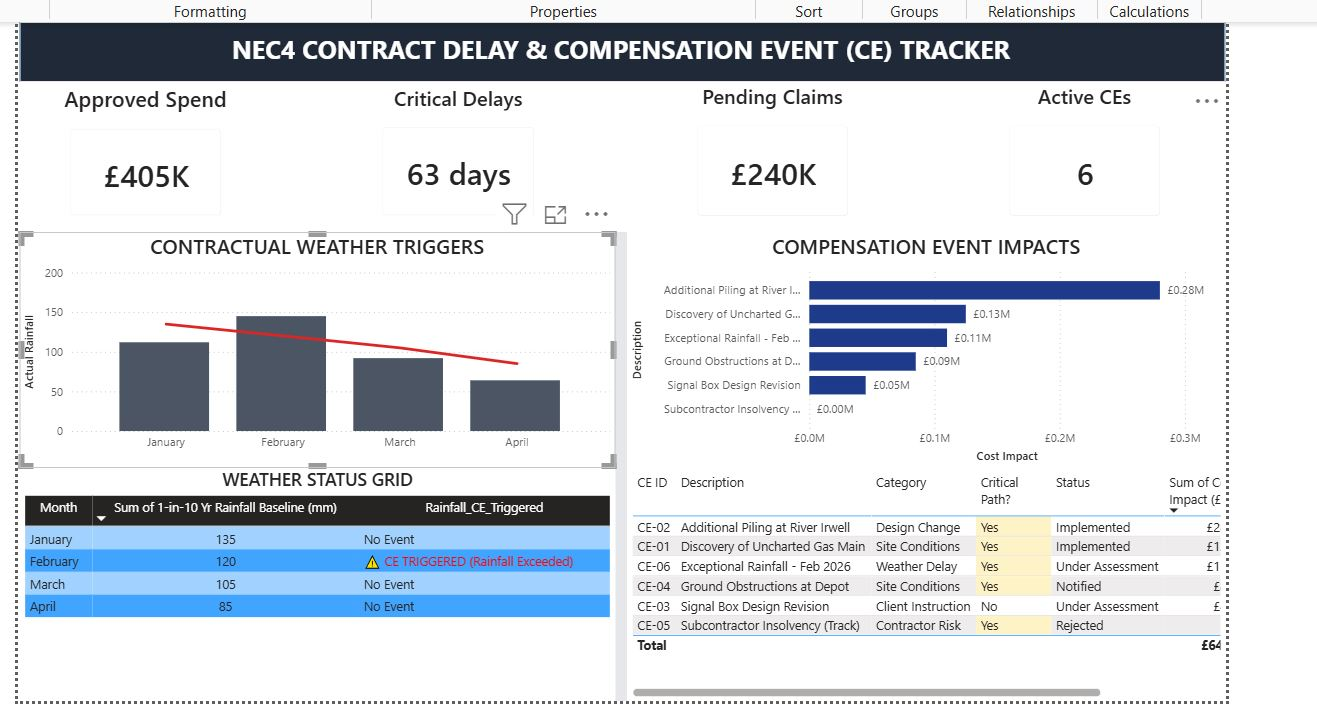

The page's visual inventory and layout, read from the dashboard file:
{"tool":"powerbi","page":{"name":"Page 1","canvas":[1280,720],"ordinal":0},"visuals":[{"type":"shape","box":[1.6,0,1278.9,63.6],"z":0},{"type":"shape","box":[633.1,222.7,12.7,497.9],"z":1000},{"type":"textbox","box":[81.7,4.8,1116.6,46.1],"z":2000},{"type":"cardVisual","title":"Approved Spend","fields":{"Data":["Compensation_Events.Approved_CE_Spend"]},"box":[38.2,64.8,194.1,157.5],"z":3000},{"type":"cardVisual","title":"Critical Delays","fields":{"Data":["Compensation_Events.Critical_Path_Delay"]},"box":[369.6,64.8,195.6,157.5],"z":4000},{"type":"cardVisual","title":"Pending Claims","fields":{"Data":["Sum(Compensation_Events.Cost Impact (£))"]},"box":[702.5,64,194.1,159.1],"z":5000},{"type":"cardVisual","title":"Active CEs","fields":{"Data":["Count(Compensation_Events.CE ID)"]},"box":[1033.9,64,194.1,159.1],"z":6000},{"type":"lineClusteredColumnComboChart","title":"CONTRACTUAL WEATHER TRIGGERS","fields":{"Category":["Weather_Baseline.Month"],"Y":["Sum(Weather_Baseline.Actual Rainfall (mm))"],"Y2":["Sum(Weather_Baseline.1-in-10 Yr Rainfall Baseline (mm))"]},"box":[1.6,222.7,631.5,249.7],"z":7000},{"type":"tableEx","title":"WEATHER STATUS GRID","fields":{"Values":["Weather_Baseline.Month","Sum(Weather_Baseline.1-in-10 Yr Rainfall Baseline (mm))","Weather_Baseline.Rainfall_CE_Triggered"]},"box":[2,473,632,247],"z":8000},{"type":"clusteredBarChart","title":"COMPENSATION EVENT IMPACTS","fields":{"Category":["Compensation_Events.Description"],"Y":["Sum(Compensation_Events.Cost Impact (£))"]},"box":[645.8,222.7,634.7,249.7],"z":9000},{"type":"tableEx","fields":{"Values":["Compensation_Events.CE ID","Compensation_Events.Description","Compensation_Events.Category","Compensation_Events.Critical Path?","Compensation_Events.Status","Sum(Compensation_Events.Cost Impact (£))","Sum(Compensation_Events.Delay Impact (Days))"]},"box":[645.8,472.4,634.7,248.1],"z":10000}]}

Visuals, with their boxes on the page's 1280x720 design canvas (x1, y1, x2, y2). These are canvas units, not pixel positions in the 1317x705 screenshot, which may show the page scaled, cropped or inside an application window:
shape: bbox=(2, 0, 1280, 64)
shape: bbox=(633, 223, 646, 721)
textbox: bbox=(82, 5, 1198, 51)
"Approved Spend" cardVisual: bbox=(38, 65, 232, 222)
"Critical Delays" cardVisual: bbox=(370, 65, 565, 222)
"Pending Claims" cardVisual: bbox=(702, 64, 897, 223)
"Active CEs" cardVisual: bbox=(1034, 64, 1228, 223)
"CONTRACTUAL WEATHER TRIGGERS" lineClusteredColumnComboChart: bbox=(2, 223, 633, 472)
"WEATHER STATUS GRID" tableEx: bbox=(2, 473, 634, 720)
"COMPENSATION EVENT IMPACTS" clusteredBarChart: bbox=(646, 223, 1280, 472)
tableEx - Compensation_Events.CE ID x Compensation_Events.Description: bbox=(646, 472, 1280, 720)
